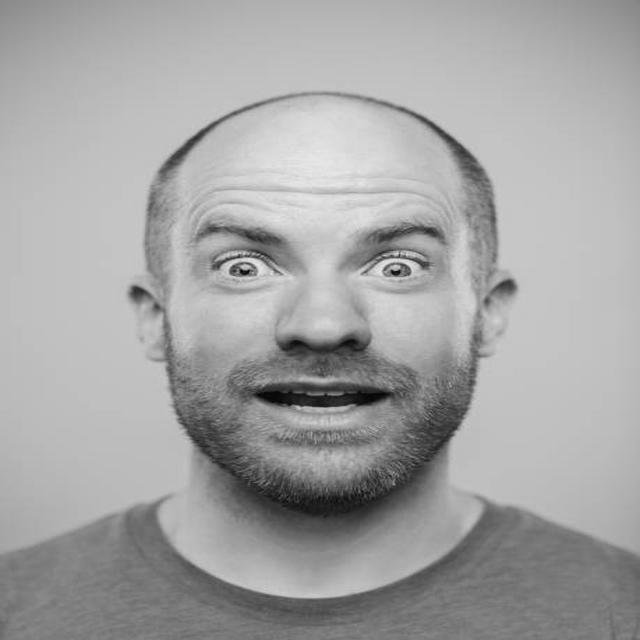Surprised: (166, 111, 479, 513)
